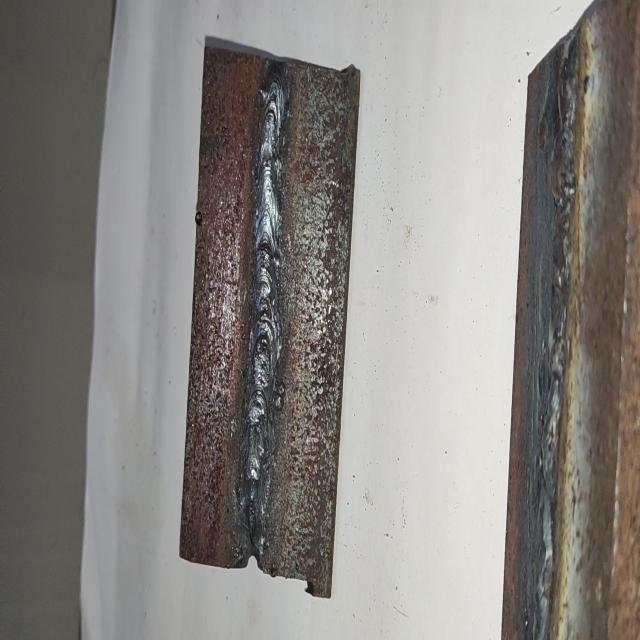Welding Line: (236, 62, 286, 568)
Workpiece: (176, 32, 352, 592)
